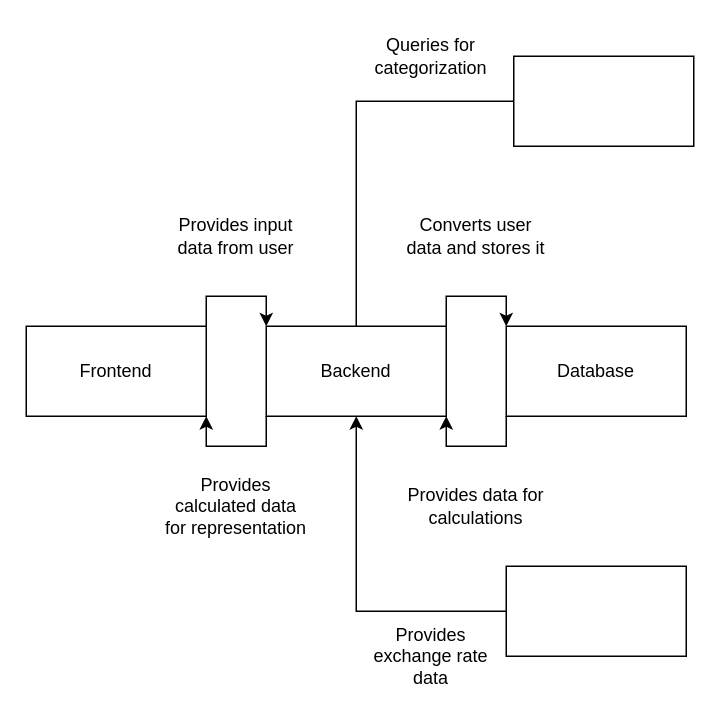
This 720x714 diagram has some shape labels left out. The centre of each missing label's shape, as x and y in pixels:
ExchangeRate API: point 595,610
Gemini: point 603,100
